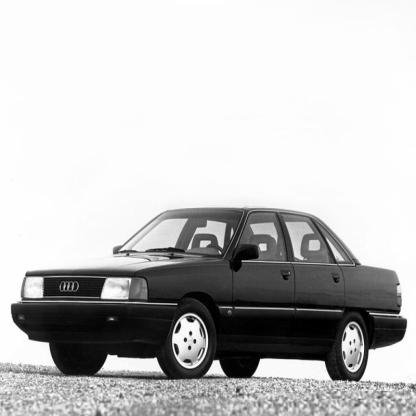car: (11, 208, 409, 383)
